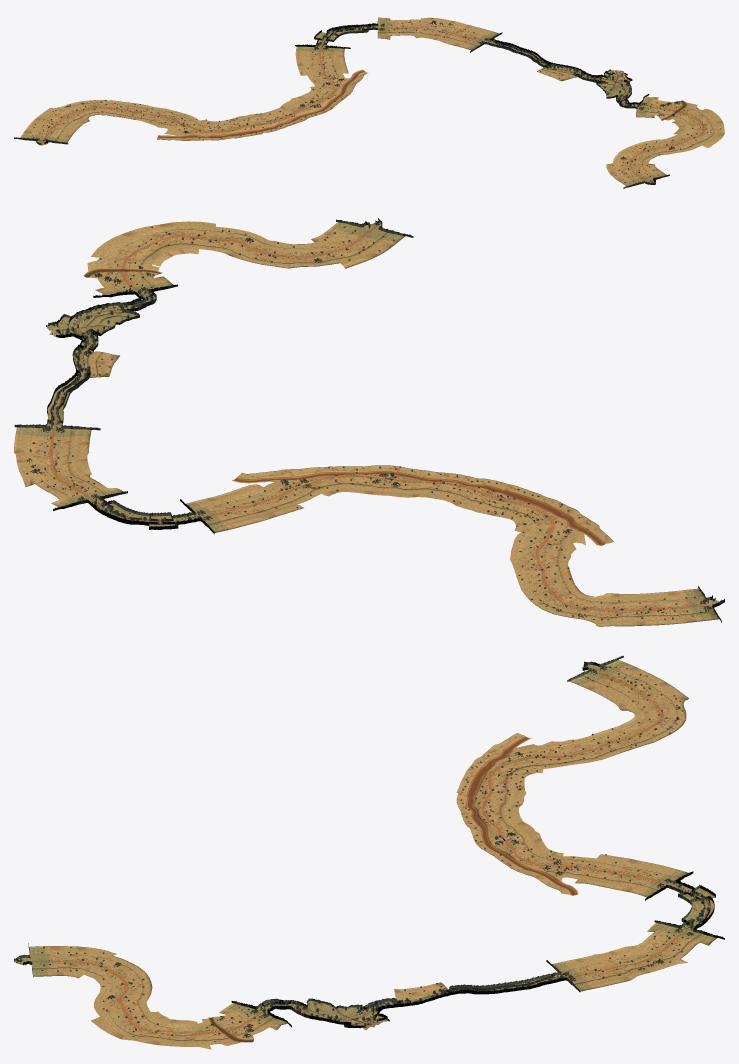
File: kenya_stage6_visual.glb
The picture shows the model from 3 angles, top to bottom: view 1: azimuth 30°, elevation 25°; view 2: azimuth 150°, elevation 25°; view 3: azimuth 270°, elevation 25°; orthographic projection. The views are drawn at different scales.
Parts seen in each view (by area): view 1: Track_Road_And_Terrain, Foliage_And_Vegetation; view 2: Track_Road_And_Terrain, Foliage_And_Vegetation; view 3: Track_Road_And_Terrain, Foliage_And_Vegetation.
Part boxes in pixels (box(x1,y1,x2,y2)): Track_Road_And_Terrain: box(14, 17, 724, 188); Foliage_And_Vegetation: box(30, 18, 720, 182); Track_Road_And_Terrain: box(14, 218, 724, 626); Foliage_And_Vegetation: box(26, 222, 711, 620); Track_Road_And_Terrain: box(14, 655, 724, 1049); Foliage_And_Vegetation: box(19, 665, 709, 1042).
Size of the model in its own units: 3686 by 36.44 by 2829.
79 materials, 79 textured.
